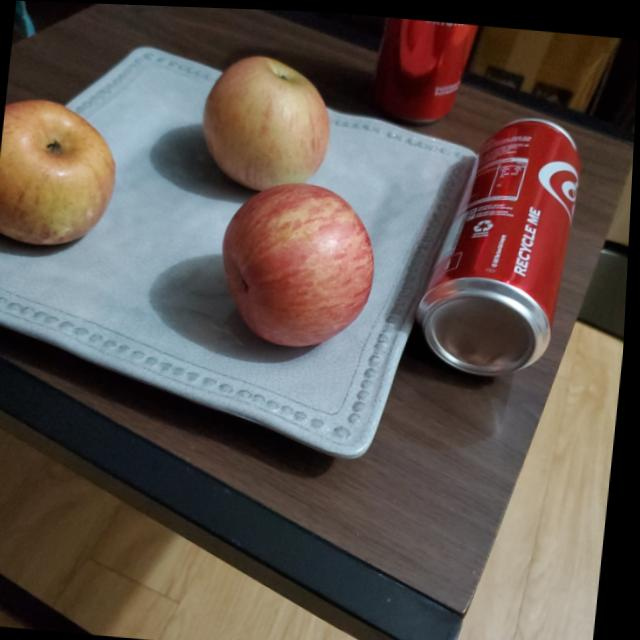apple: (212, 174, 383, 355), (200, 45, 345, 192), (0, 95, 125, 256)
coke: (418, 105, 587, 382), (365, 13, 484, 121)
